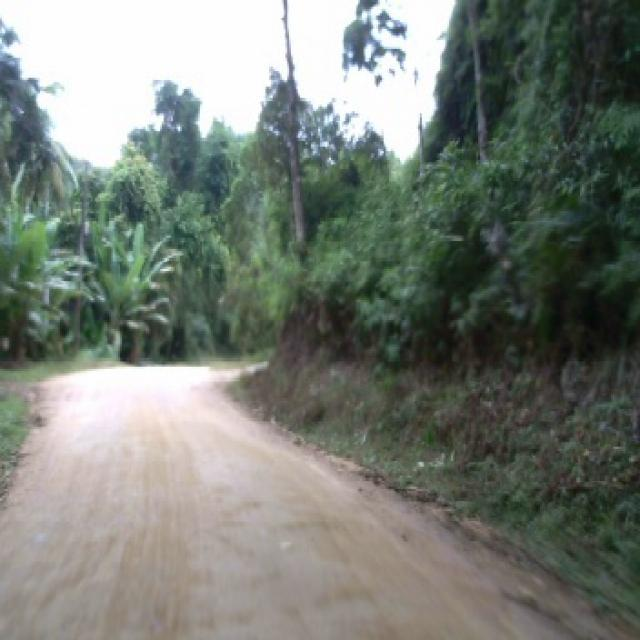Poth-hole: (324, 451, 636, 636)
